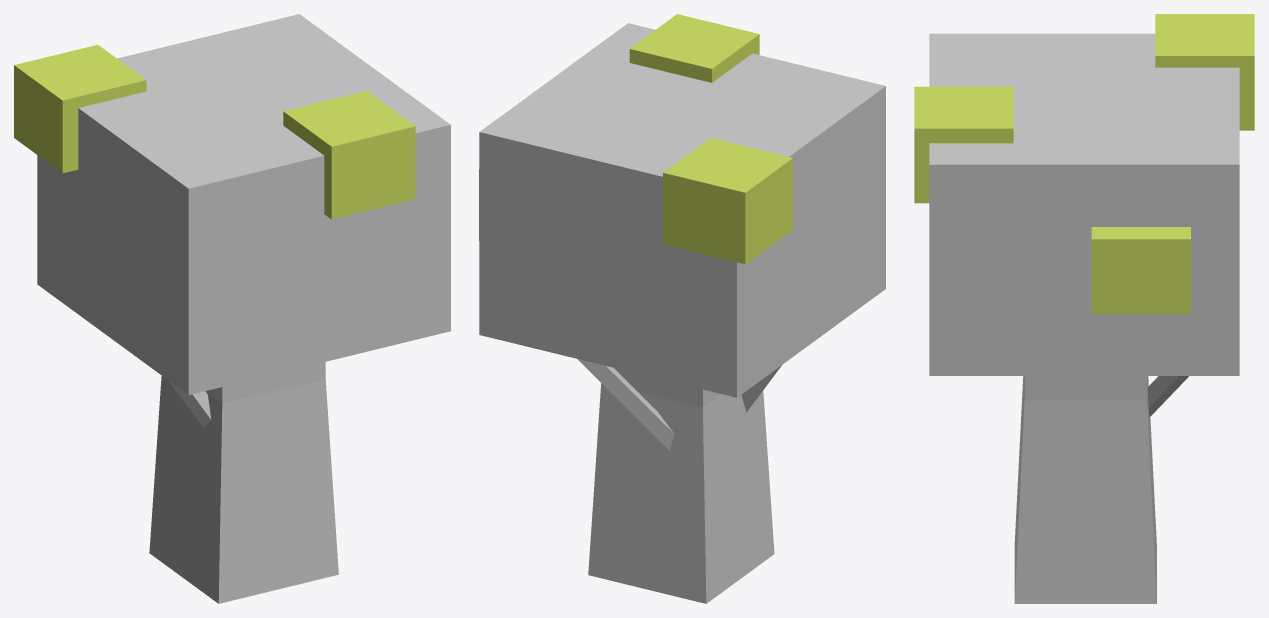
File: Copac-6.fbx
3 renders of one model, left to right at view 1: azimuth 30°, elevation 25°; view 2: azimuth 150°, elevation 25°; view 3: azimuth 270°, elevation 25°, orthographic. The views are drawn at different scales.
Visible parts, largest first — view 1: Cube.006; view 2: Cube.006; view 3: Cube.006.
Boxes of the visible parts, x1,y1,x2,y2 form: Cube.006: (14,14,450,603); Cube.006: (479,14,885,603); Cube.006: (914,14,1254,603).
Bounding box in the file's own units: 1.89 × 2.85 × 1.8.
